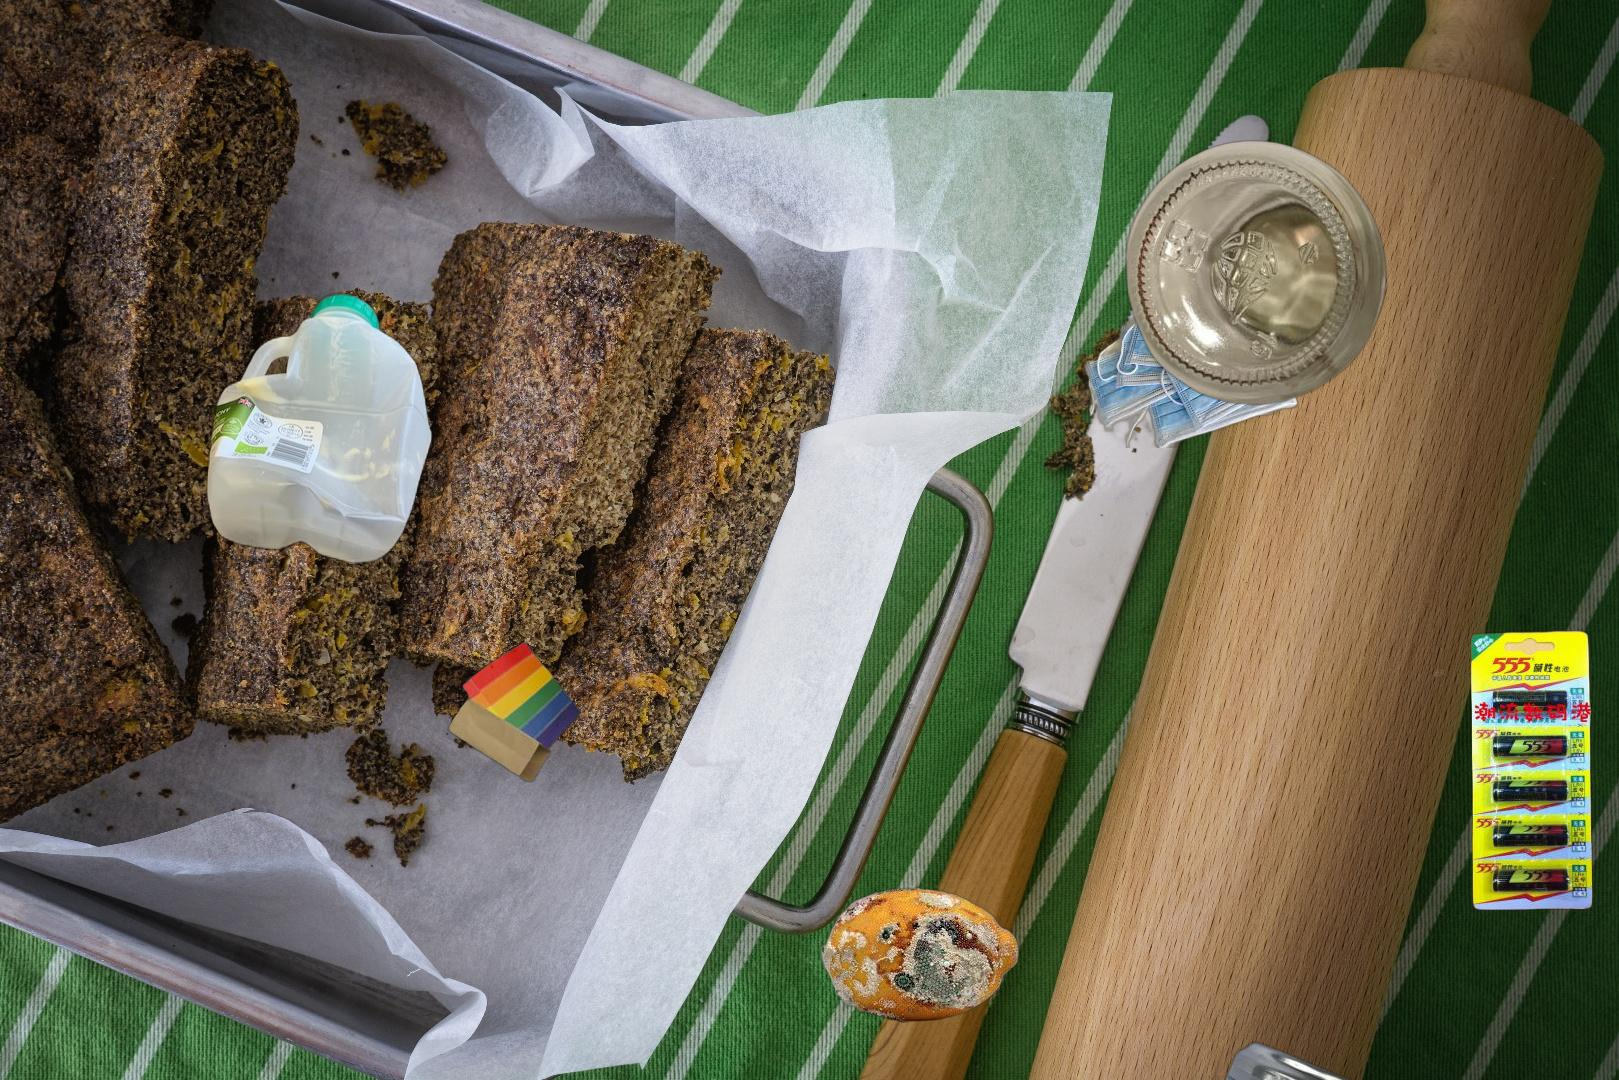battery: (1468, 628, 1596, 912)
biological: (817, 885, 1022, 1025)
glass: (1121, 137, 1391, 407)
metal-cans: (697, 991, 1168, 1080), (1158, 1040, 1420, 1080)
paper-bag: (445, 588, 582, 783)
plastic-bottles: (203, 287, 438, 569)
trash: (1078, 280, 1339, 448)
